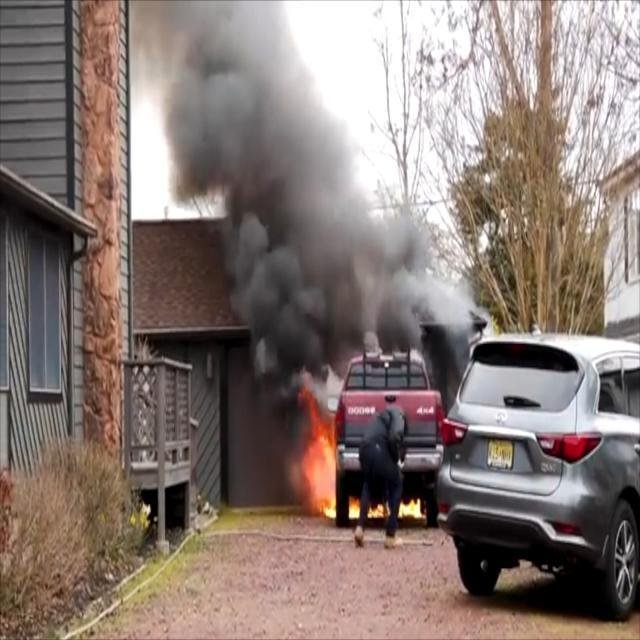fire: (286, 374, 344, 520), (346, 488, 429, 524)
